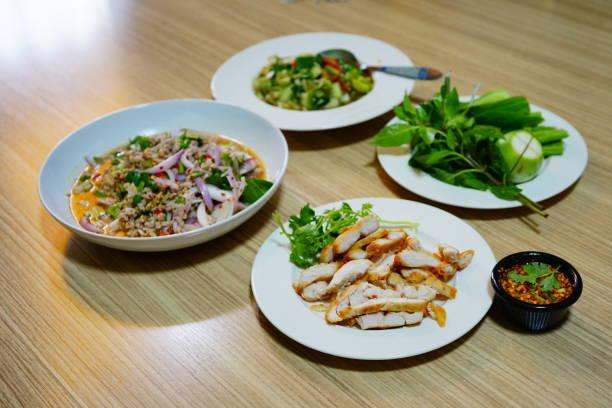Braised Crucian Carp: (248, 196, 497, 360), (36, 98, 285, 250), (375, 98, 588, 210), (211, 31, 413, 133)
